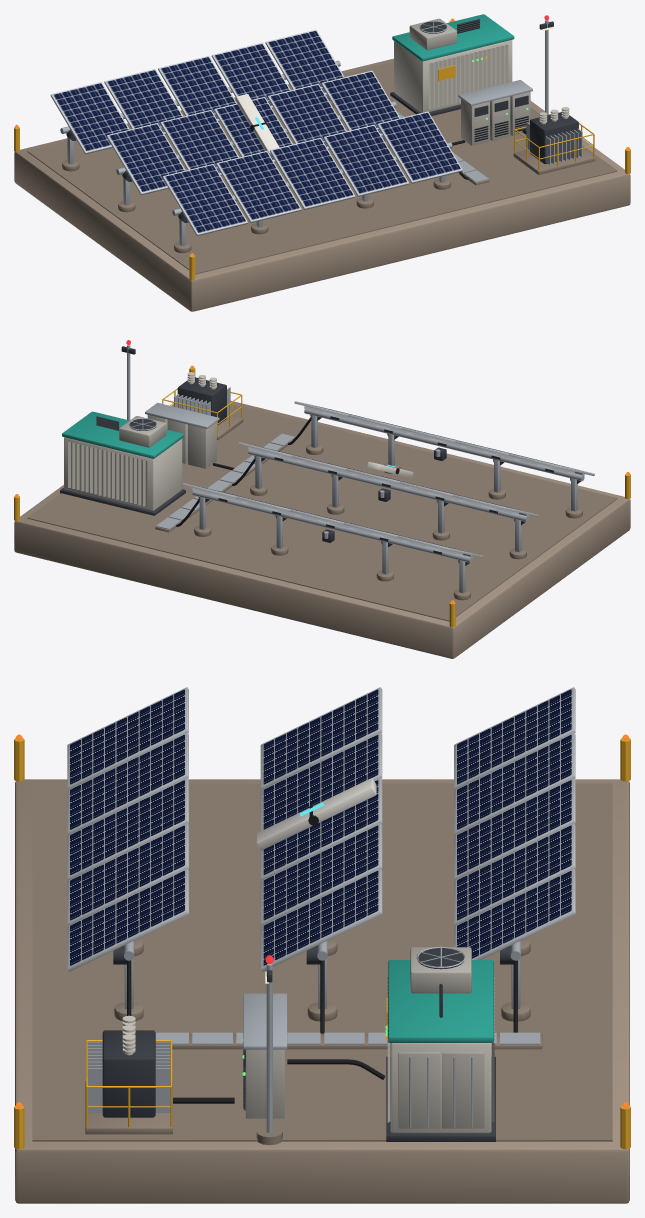
The model's file is solar_farm.glb.
The picture shows the model from 3 angles, top to bottom: view 1: azimuth 30°, elevation 25°; view 2: azimuth 150°, elevation 25°; view 3: azimuth 270°, elevation 25°; orthographic projection. The views are drawn at different scales.
Parts seen in each view (by area): view 1: solar_farm; view 2: solar_farm; view 3: solar_farm.
Boxes of the visible parts, box(x1,y1,x2,y2) form: solar_farm: box(14, 14, 630, 311); solar_farm: box(14, 340, 630, 658); solar_farm: box(14, 687, 630, 1203).
Bounding box in the file's own units: 10.02 × 3.02 × 7.02.
Materials: 17 (1 with a texture image).
